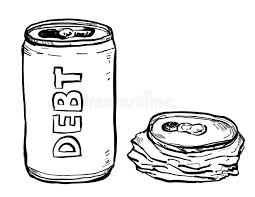can: (23, 17, 245, 187)
